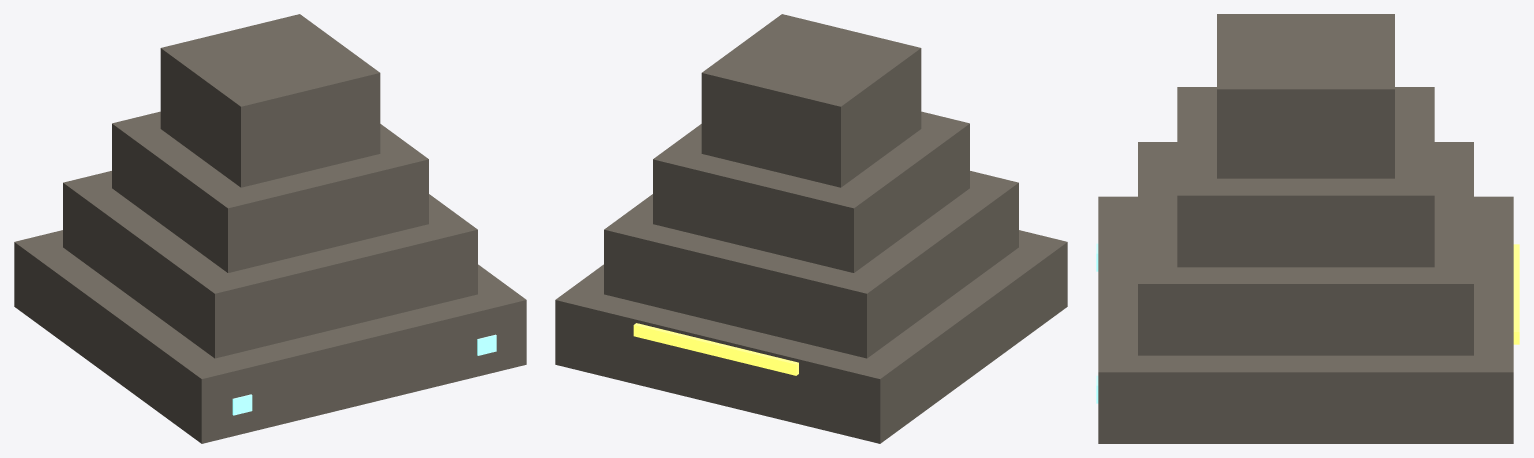
Rendered from bank_lod1-Ct8kE09w.glb.
3 renders of one model, left to right at view 1: azimuth 30°, elevation 25°; view 2: azimuth 150°, elevation 25°; view 3: azimuth 270°, elevation 25°, orthographic. The views are drawn at different scales.
Parts seen in each view (by area): view 1: body, window; view 2: body, sign; view 3: body, sign.
Boxes of the visible parts, left/top/right/bottom form: body: left=14, top=14, right=526, bottom=443; window: left=232, top=334, right=496, bottom=415; body: left=555, top=14, right=1067, bottom=443; sign: left=633, top=323, right=798, bottom=375; body: left=1098, top=14, right=1513, bottom=443; sign: left=1513, top=244, right=1519, bottom=344.
Bounding box in the file's own units: 0.84 × 0.68 × 0.856.
